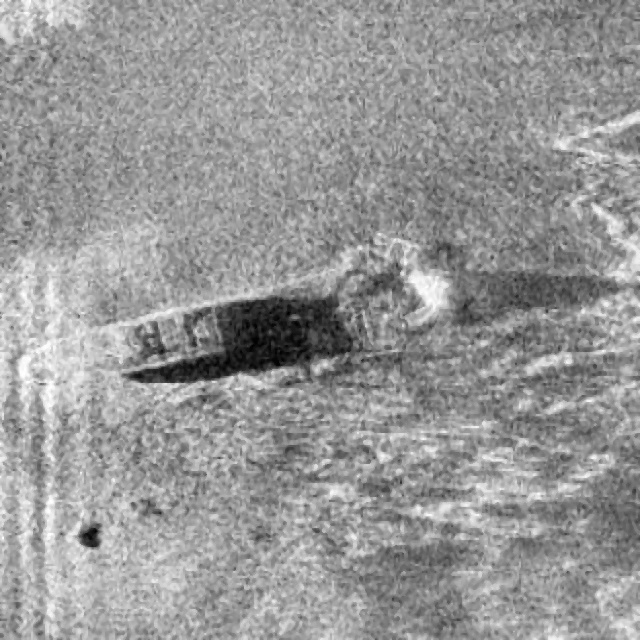Ship: (16, 219, 471, 429)
